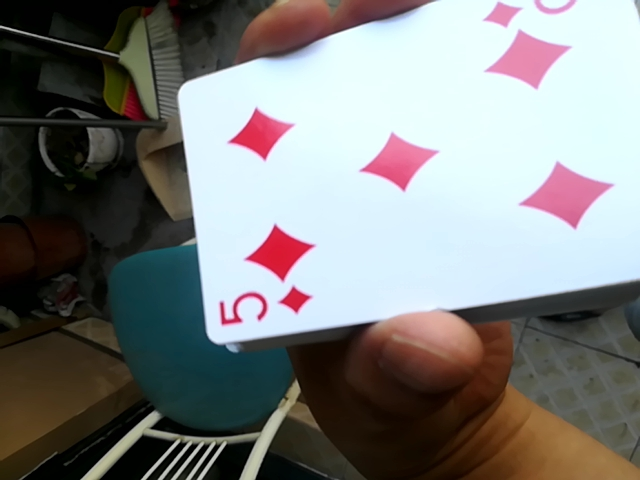fk 5: (177, 5, 638, 348)
